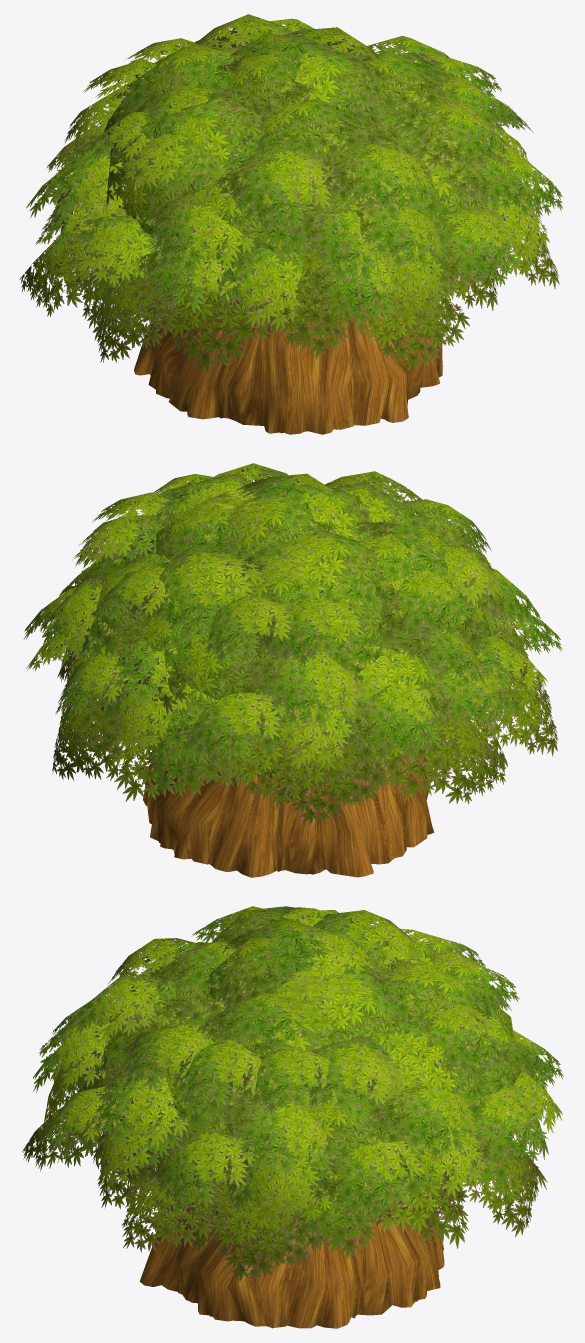
File: n_ESWtree02.glb
3 renders of one model, top to bottom at view 1: azimuth 30°, elevation 25°; view 2: azimuth 150°, elevation 25°; view 3: azimuth 270°, elevation 25°, orthographic.
Parts seen in each view (by area): view 1: n_ESWtree02; view 2: n_ESWtree02; view 3: n_ESWtree02.
Boxes of the visible parts, box(x1,y1,x2,y2) form: n_ESWtree02: box(19, 14, 562, 434); n_ESWtree02: box(23, 463, 562, 877); n_ESWtree02: box(22, 906, 563, 1328).
Bounding box in the file's own units: 32.26 × 21.02 × 31.99.
3 materials, 3 textured.
